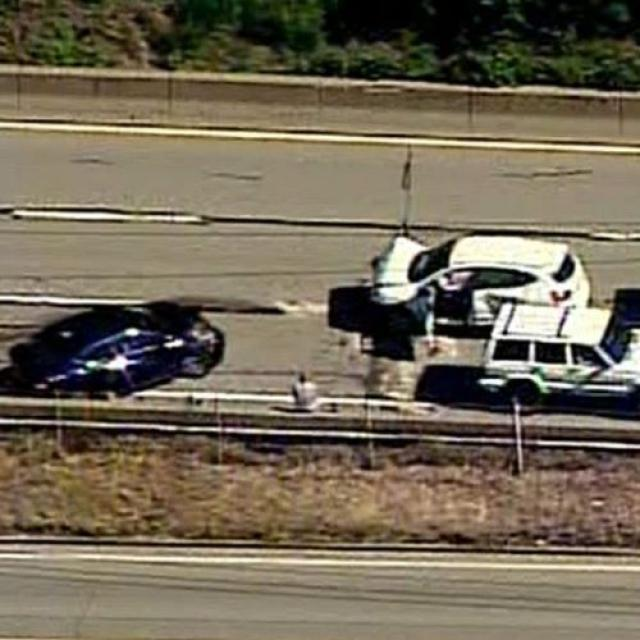traffic_incident: (0, 280, 212, 419), (363, 226, 588, 336)
